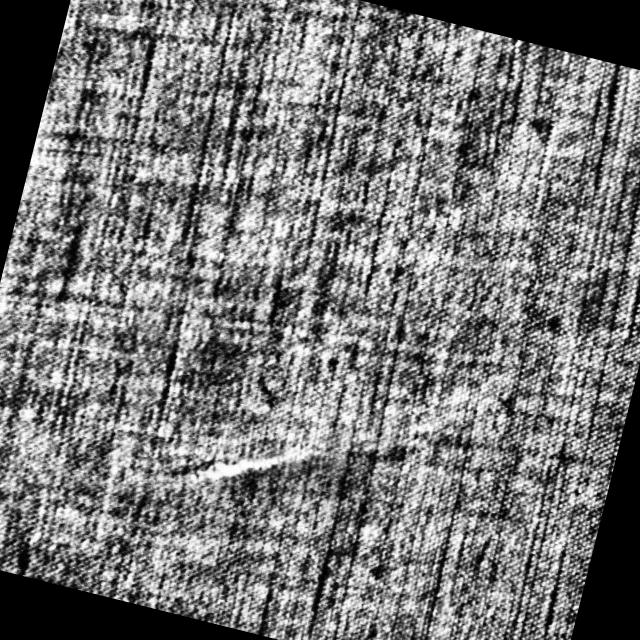gray stitch: (157, 360, 462, 554)
